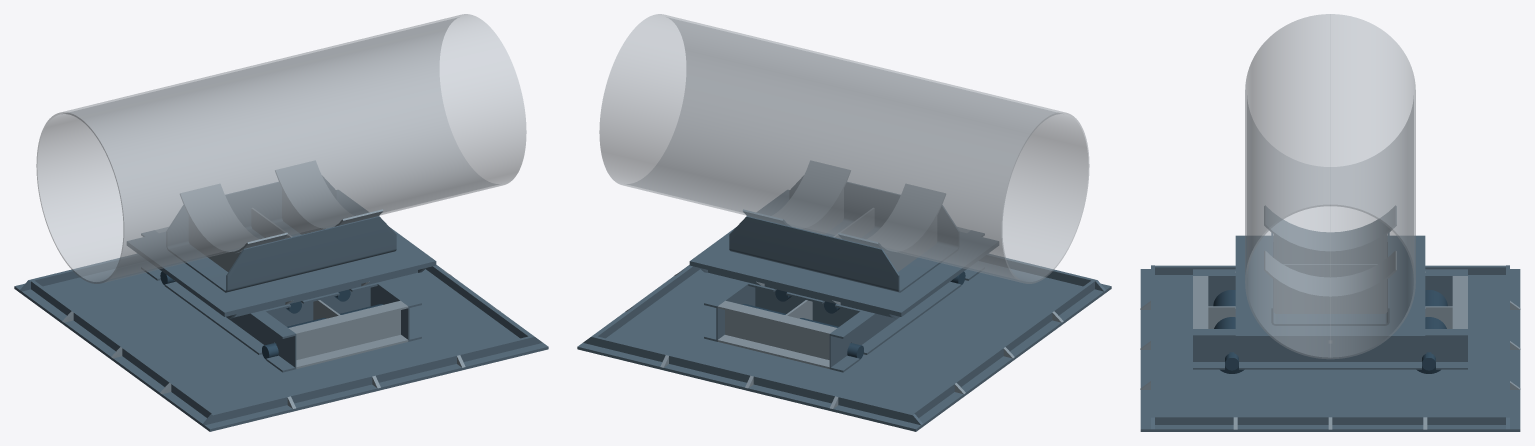
File: TS-628.00.000-19-opora-dn720-hod400.glb
3 views of the same model, side by side, from view 1: azimuth 30°, elevation 25°; view 2: azimuth 150°, elevation 25°; view 3: azimuth 270°, elevation 25° (orthographic). The views are drawn at different scales.
Parts seen in each view (by area): view 1: truba, plita_niz_osnovanie_0, korpus_skoba_81, plita_verh_osnovanie_70, karetka_rebro_shveller_19, karetka_shveller_prodolnyj_17, plita_niz_polosa2_9, korpus_podushka_87, korpus_podushka_88, plita_niz_polosa3_10, karetka_shveller_poperechnyj_18, karetka_shveller_prodolnyj_20 (+6 smaller); view 2: truba, plita_niz_osnovanie_0, korpus_skoba_81, plita_verh_osnovanie_70, karetka_rebro_shveller_22, karetka_shveller_prodolnyj_17, plita_niz_polosa2_1, korpus_podushka_87, korpus_podushka_88, plita_niz_polosa3_10, karetka_shveller_poperechnyj_21, karetka_shveller_prodolnyj_20 (+6 smaller); view 3: truba, plita_niz_osnovanie_0, plita_verh_osnovanie_70, karetka_shveller_prodolnyj_20, plita_niz_polosa3_2, korpus_podushka_88, korpus_podushka_87, korpus_rebro3_85, korpus_rebro3_83, korpus_skoba_81, karetka_shveller_prodolnyj_17, plita_niz_polosa3_10 (+8 smaller).
Boxes of the visible parts, <box> form: truba: <box>36,14,526,283</box>; plita_niz_osnovanie_0: <box>14,261,548,431</box>; korpus_skoba_81: <box>166,177,396,292</box>; plita_verh_osnovanie_70: <box>127,190,436,316</box>; karetka_rebro_shveller_19: <box>288,300,408,368</box>; karetka_shveller_prodolnyj_17: <box>141,230,296,372</box>; plita_niz_polosa2_9: <box>203,335,542,425</box>; korpus_podushka_87: <box>180,184,287,253</box>; korpus_podushka_88: <box>275,161,383,229</box>; plita_niz_polosa3_10: <box>31,280,214,418</box>; karetka_shveller_poperechnyj_18: <box>264,283,377,326</box>; karetka_shveller_prodolnyj_20: <box>370,279,421,341</box>; truba: <box>599,14,1089,283</box>; plita_niz_osnovanie_0: <box>577,261,1111,431</box>; korpus_skoba_81: <box>729,177,959,292</box>; plita_verh_osnovanie_70: <box>689,190,998,316</box>; karetka_rebro_shveller_22: <box>717,300,837,368</box>; karetka_shveller_prodolnyj_17: <box>829,230,984,372</box>; plita_niz_polosa2_1: <box>583,335,922,425</box>; korpus_podushka_87: <box>838,184,945,253</box>; korpus_podushka_88: <box>742,161,850,229</box>; plita_niz_polosa3_10: <box>911,280,1094,418</box>; karetka_shveller_poperechnyj_21: <box>748,283,861,326</box>; karetka_shveller_prodolnyj_20: <box>704,279,755,341</box>; truba: <box>1245,14,1415,359</box>; plita_niz_osnovanie_0: <box>1140,269,1520,431</box>; plita_verh_osnovanie_70: <box>1235,235,1425,340</box>; karetka_shveller_prodolnyj_20: <box>1193,329,1467,369</box>; plita_niz_polosa3_2: <box>1155,415,1505,424</box>; korpus_podushka_88: <box>1264,251,1396,298</box>; korpus_podushka_87: <box>1264,206,1396,252</box>; korpus_rebro3_85: <box>1273,279,1387,313</box>; korpus_rebro3_83: <box>1273,234,1387,264</box>; korpus_skoba_81: <box>1271,233,1389,325</box>; karetka_shveller_prodolnyj_17: <box>1193,269,1467,306</box>; plita_niz_polosa3_10: <box>1155,265,1505,274</box>.
Size of the model in its own units: 1900 by 1128 by 1602.
